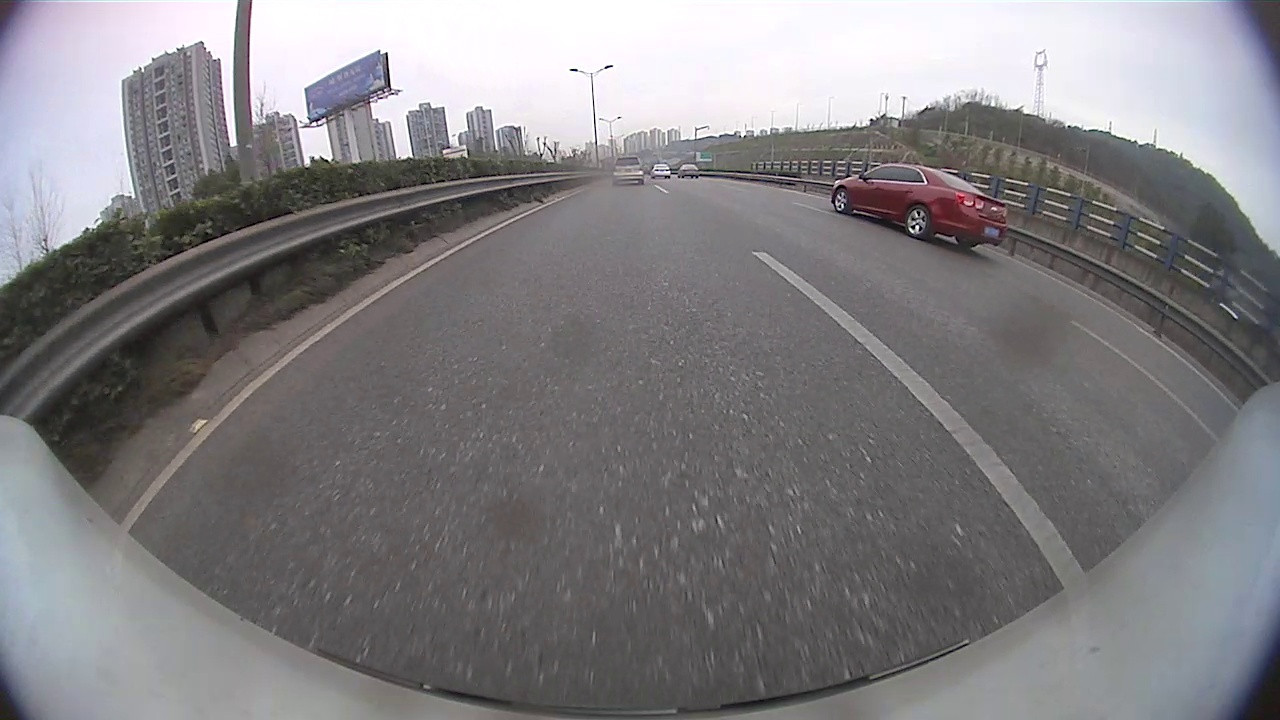car: (829, 161, 1010, 249), (612, 153, 645, 184)
front: (831, 189, 850, 212)
rear: (906, 204, 932, 240)
